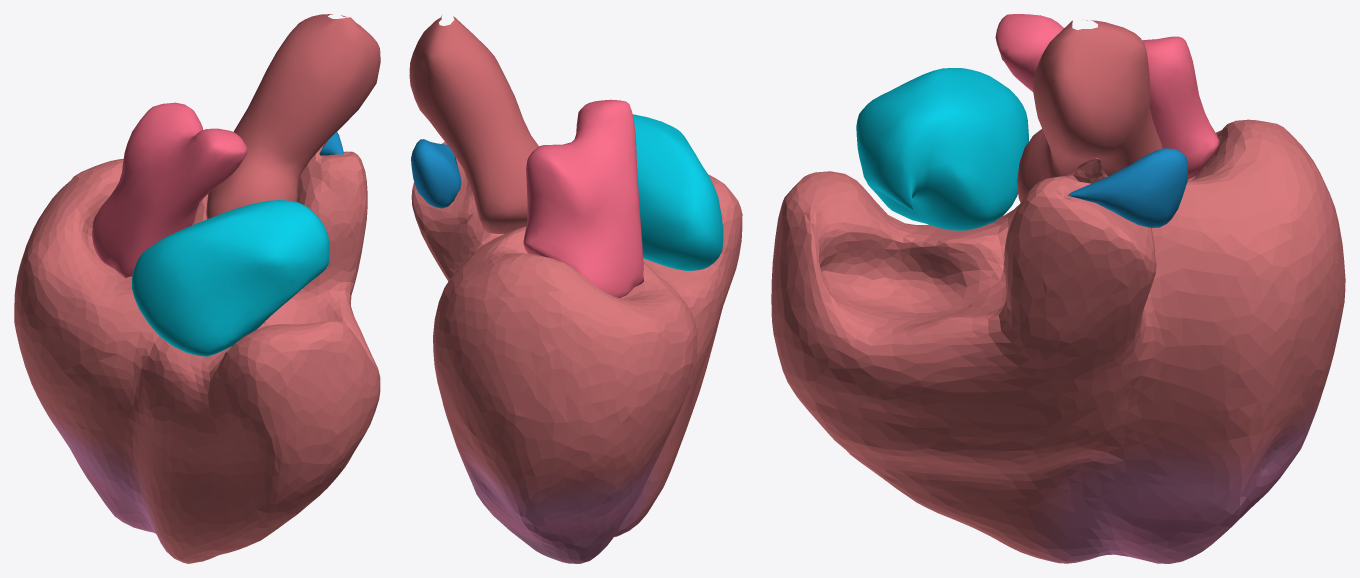
Rendered from frame_64.glb.
The picture shows the model from 3 angles, left to right: view 1: azimuth 30°, elevation 25°; view 2: azimuth 150°, elevation 25°; view 3: azimuth 270°, elevation 25°; orthographic projection. The views are drawn at different scales.
Parts seen in each view (by area): view 1: Renderer Node; view 2: Renderer Node; view 3: Renderer Node.
Boxes of the visible parts, x1,y1,x2,y2 form: Renderer Node: (14, 14, 380, 563); Renderer Node: (409, 16, 742, 563); Renderer Node: (771, 14, 1345, 563).
Size of the model in its own units: 102 by 158 by 129.
